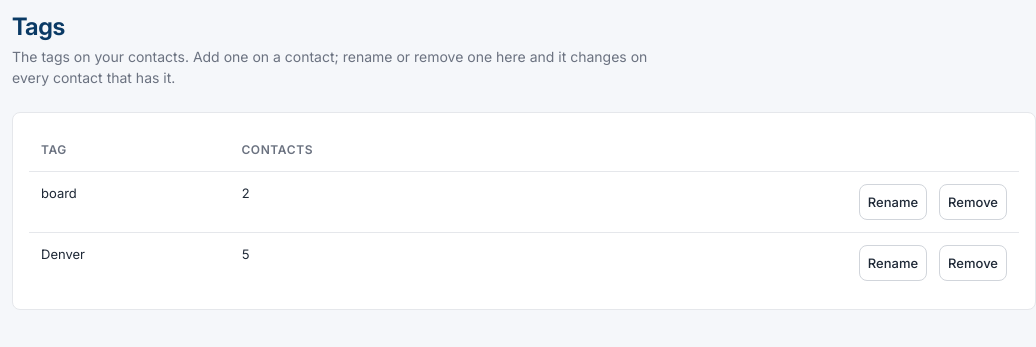
Test: Settings, Tags (2026-10-12) › renames a tag everywhere, and says when two will become one
Click the button with aria-label "Rename board" at coordinates (893, 202), box [859,184,927,220]
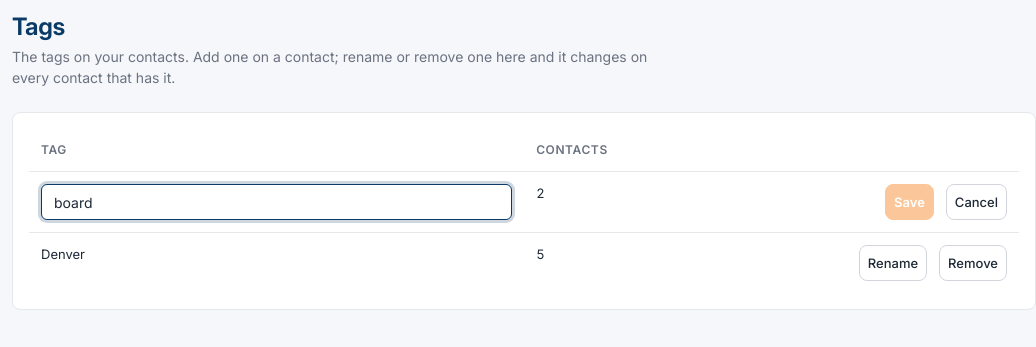
Result: the button "Save" is disabled at [885,184,934,220]
Replace the text in the field named "New name for board" with "Denver" at coordinates (277, 202), box [41,184,512,220]
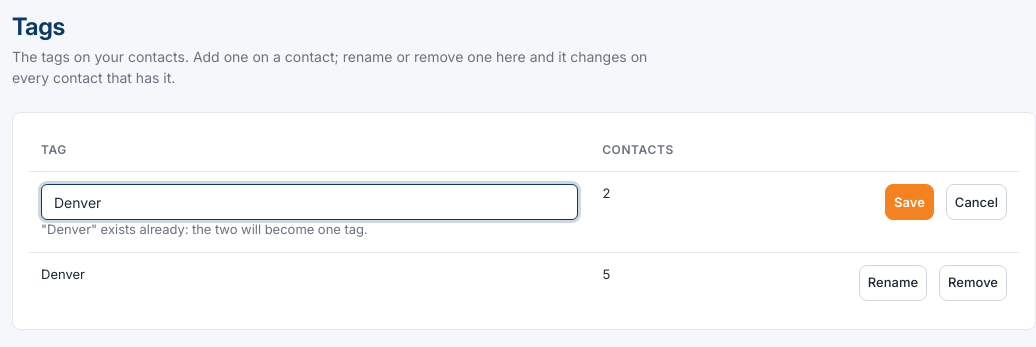
Result: the text "\"Denver\" exists already: the two will become one tag." is shown at [41,221,368,237]
Click the button "Save" at coordinates (909, 202), box [885,184,934,220]
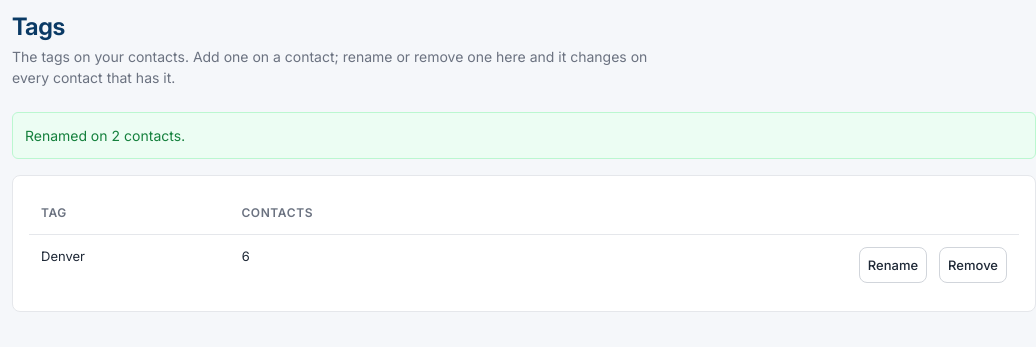
Expected: the text "board" is not shown
Result: the text "Renamed on 2 contacts." is shown at [25,127,185,144]
